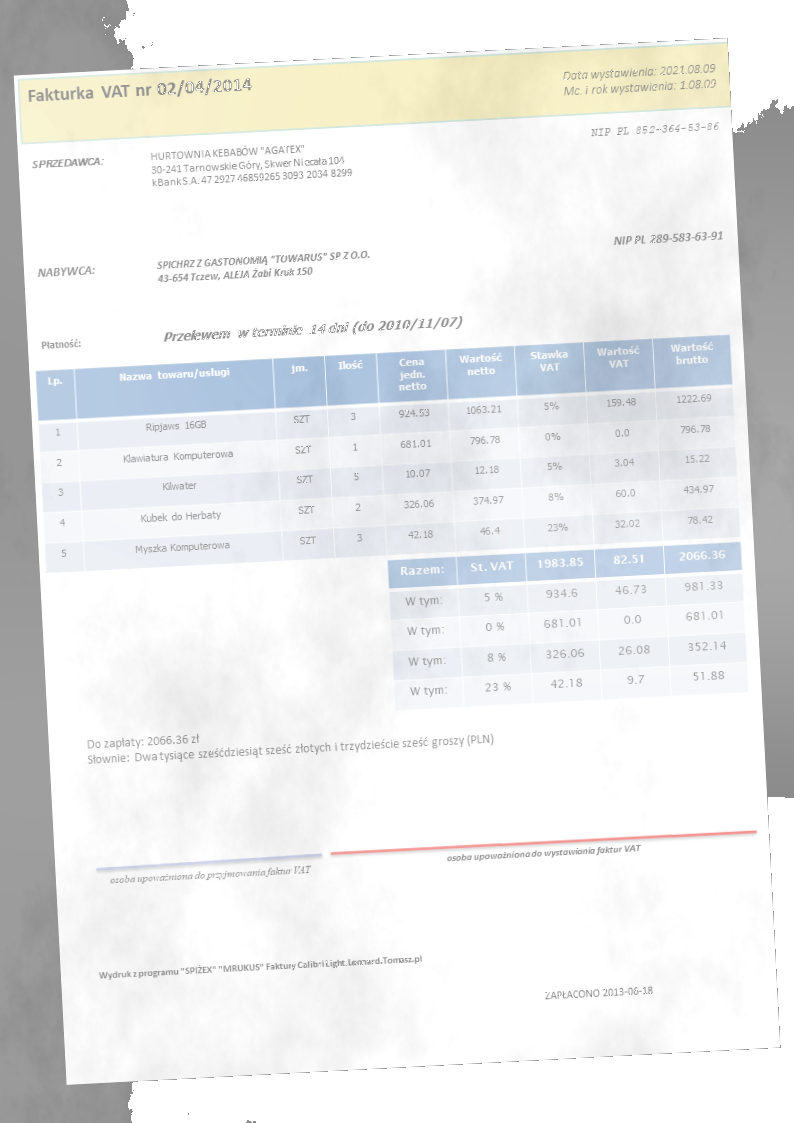Table: (34, 333, 741, 574), (386, 539, 749, 712)
TextBox: (84, 716, 495, 769), (160, 313, 465, 347), (147, 139, 354, 188), (97, 952, 425, 982), (154, 246, 372, 285), (25, 75, 254, 106), (560, 60, 720, 99), (107, 863, 313, 887), (446, 841, 642, 866), (587, 118, 722, 140), (611, 228, 726, 248), (542, 983, 657, 1001), (30, 153, 105, 170), (34, 261, 98, 280), (37, 336, 83, 351)
